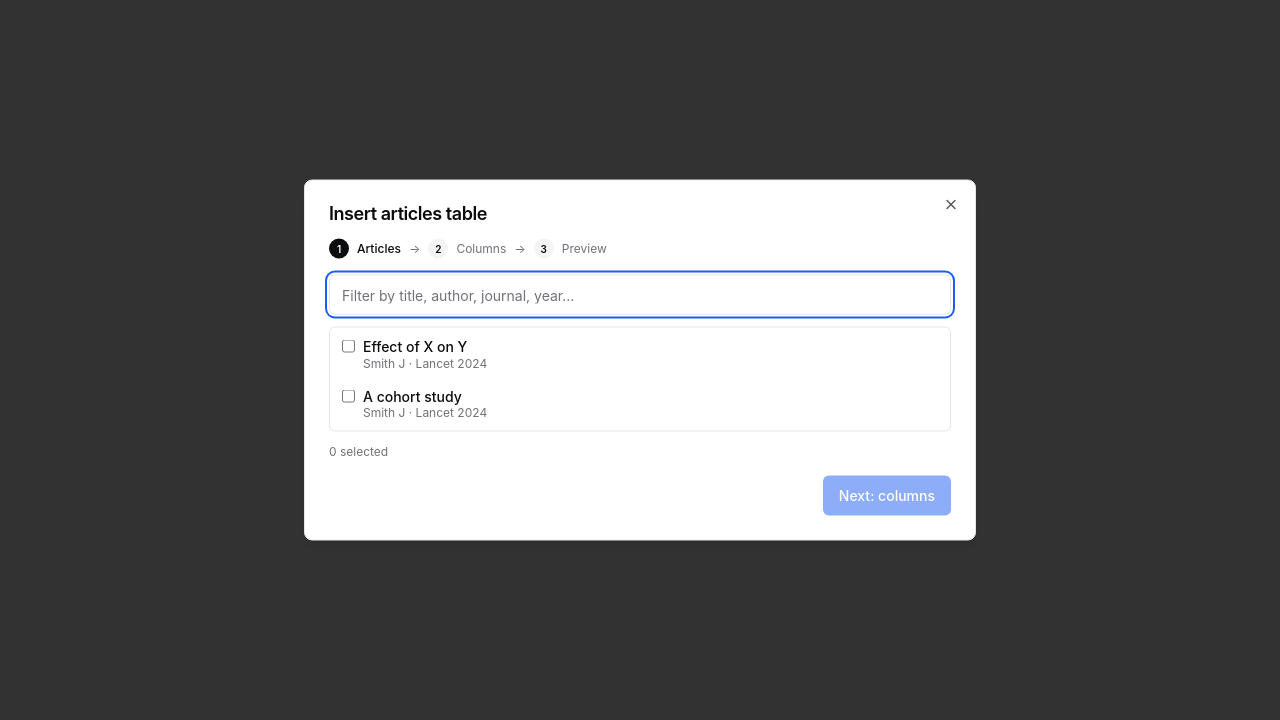
Test case: InsertArticlesTableDialog › lists project articles and allows selecting them
Expected: the text "Effect of X on Y" is shown, [363,338,467,354]
Expected: the text "A cohort study" is shown, [363,387,462,404]
Click the checkbox named "Select Effect of X on Y": point(348, 346) [342,340,355,352]
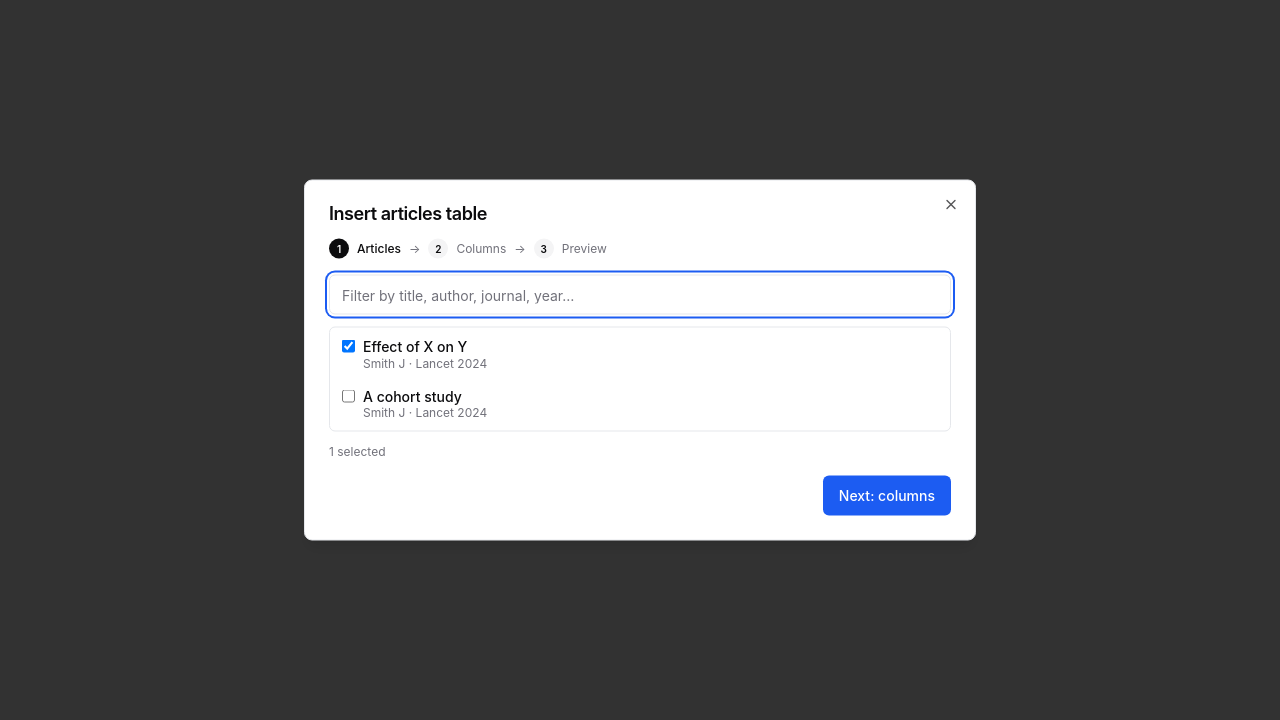
Result: the button "Next: columns" is enabled at [823,476,951,516]
